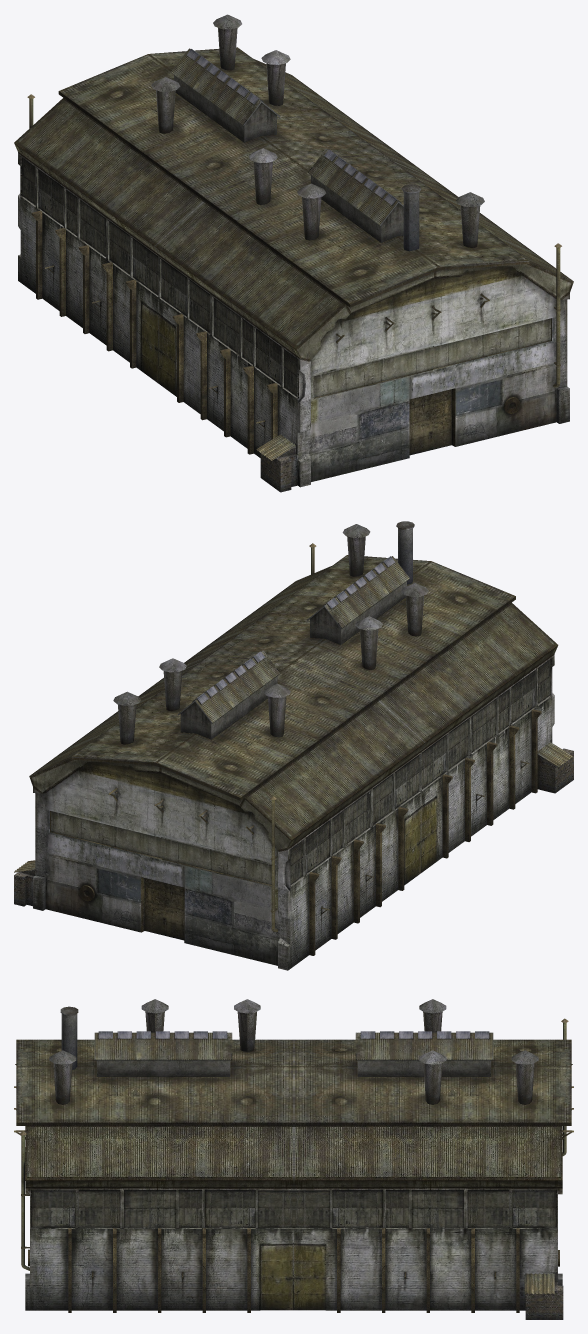
3 renders of one model, top to bottom at view 1: azimuth 30°, elevation 25°; view 2: azimuth 150°, elevation 25°; view 3: azimuth 270°, elevation 25°, orthographic. The views are drawn at different scales.
Visible parts, largest first — view 1: b10; view 2: b10; view 3: b10.
Part boxes in pixels (bbox=[...]): b10: bbox=[14, 14, 573, 492]; b10: bbox=[14, 521, 573, 970]; b10: bbox=[14, 999, 573, 1319].
Size of the model in its own units: 27.58 by 20.58 by 44.02.
Materials: 1 (1 with a texture image).
